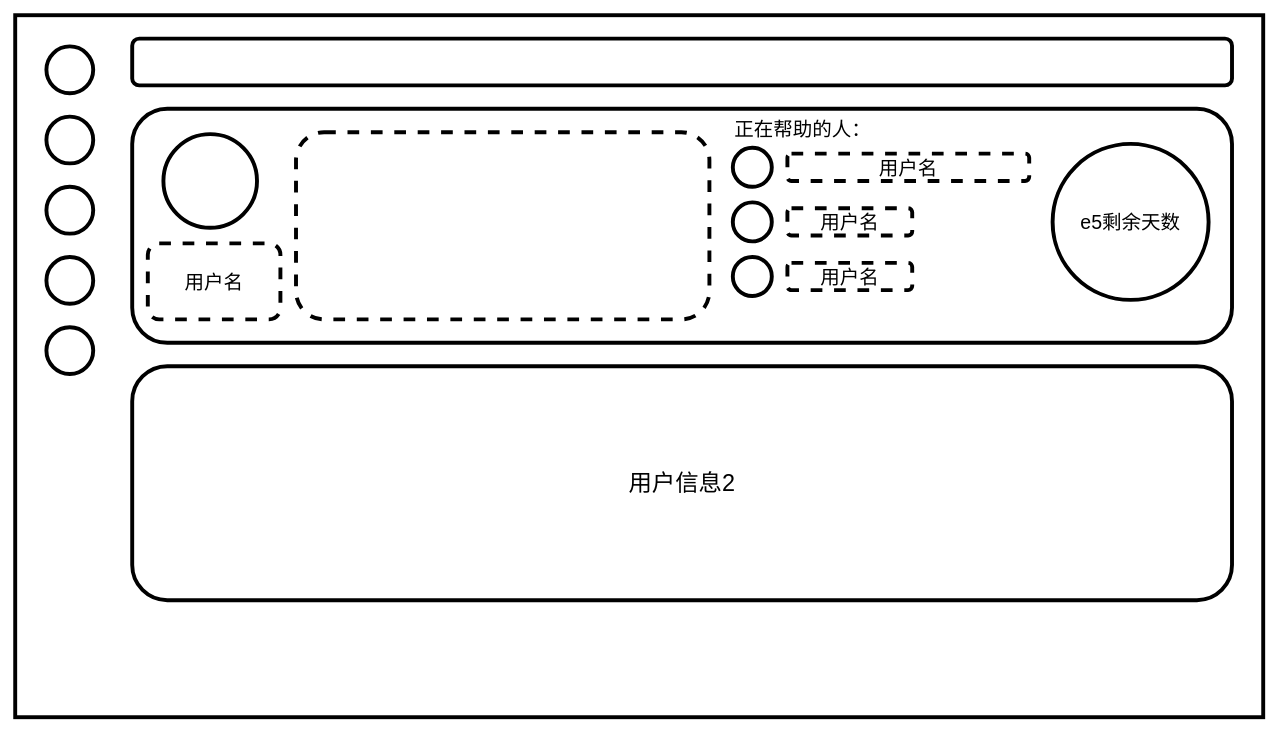
Image size: 1278x732. Some labels were removed from this diagram. Here are the shapes that lost their labels. From the top down, the centre of each, then its label:
the point at 682,61: 搜素栏
the point at 210,180: 头像
the point at 502,225: 介绍 联系方式
